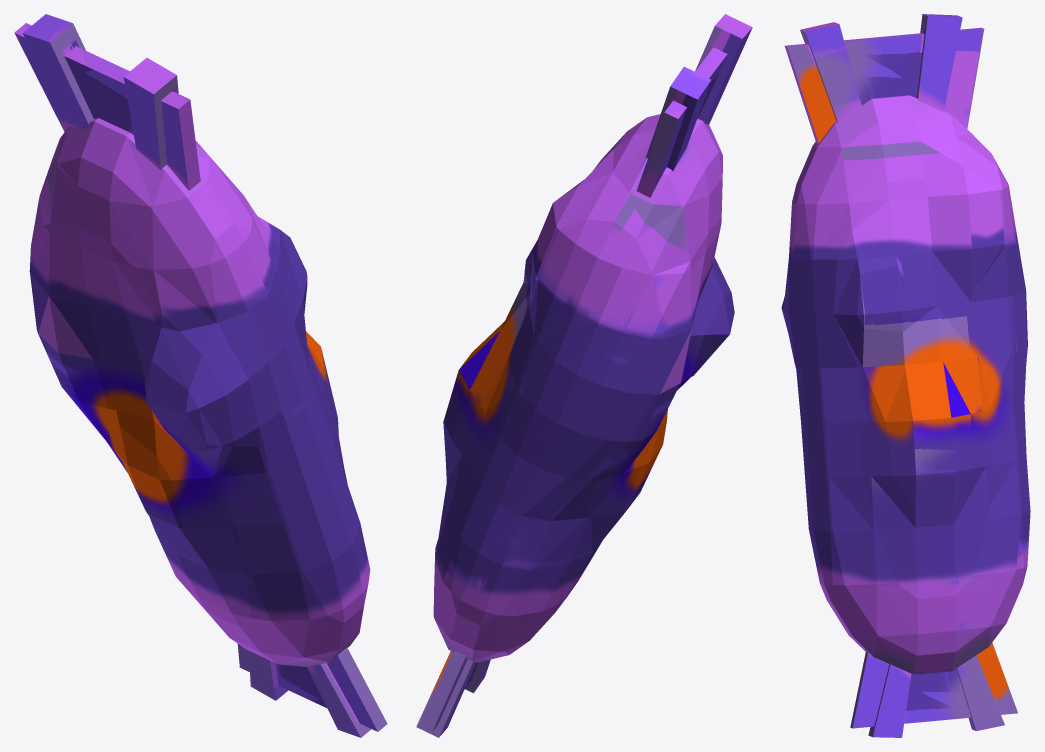
The model's file is Candy_Bar.fbx.
The picture shows the model from 3 angles, left to right: view 1: azimuth 30°, elevation 25°; view 2: azimuth 150°, elevation 25°; view 3: azimuth 270°, elevation 25°; orthographic projection. The views are drawn at different scales.
Visible parts, largest first — view 1: Mball.006; view 2: Mball.006; view 3: Mball.006.
Part boxes in pixels (left/top/right/bottom): Mball.006: left=14, top=14, right=387, bottom=737; Mball.006: left=416, top=14, right=752, bottom=737; Mball.006: left=781, top=14, right=1030, bottom=737.
Bounding box in the file's own units: 226 × 530 × 193.
1 material, 1 textured.
